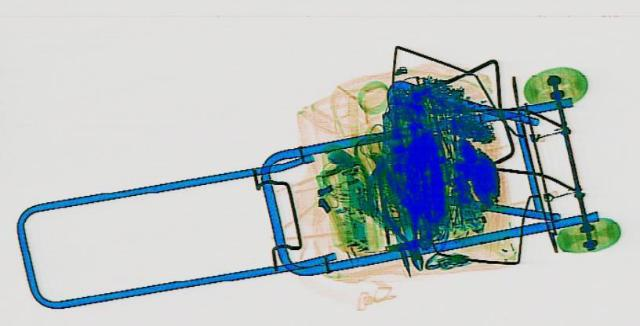Pliers: (366, 166, 436, 269)
